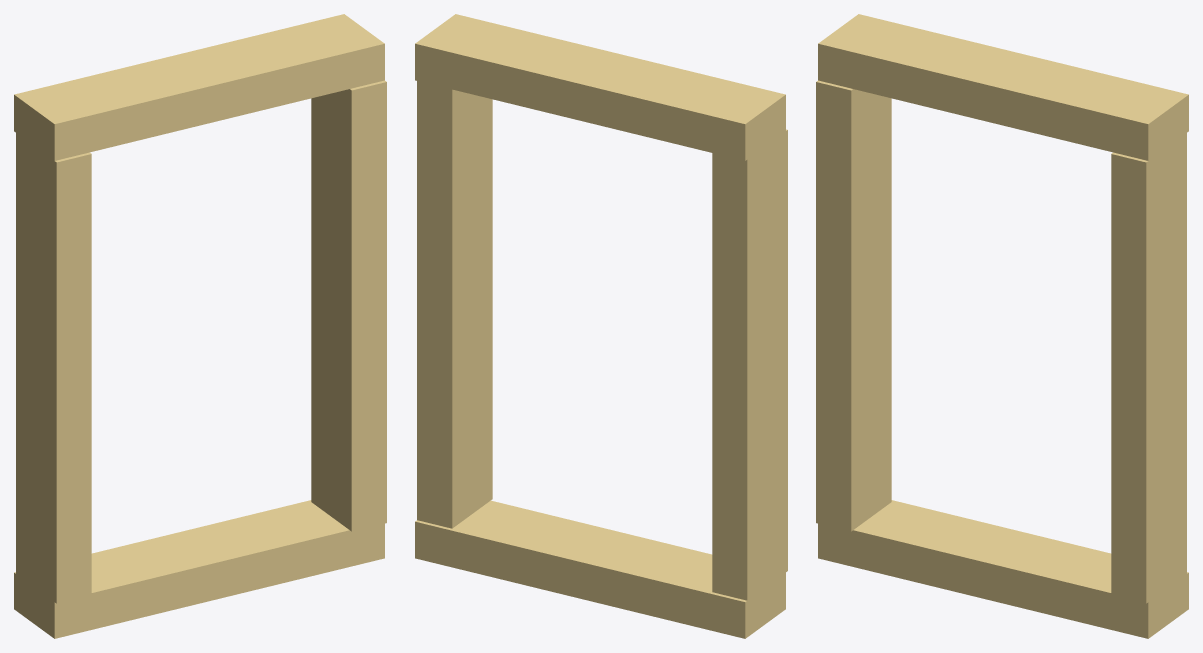
Rendered from AlchemistWindow.obj.
3 views of the same model, side by side, from view 1: azimuth 30°, elevation 25°; view 2: azimuth 150°, elevation 25°; view 3: azimuth 330°, elevation 25° (orthographic).
Parts seen in each view (by area): view 1: cuboid; view 2: cuboid; view 3: cuboid.
Boxes of the visible parts, x1,y1,x2,y2 form: cuboid: (14,14,386,638); cuboid: (415,14,787,638); cuboid: (816,14,1188,638).
Size of the model in its own units: 0.5875 by 0.875 by 0.1313.
1 material, 1 textured.
